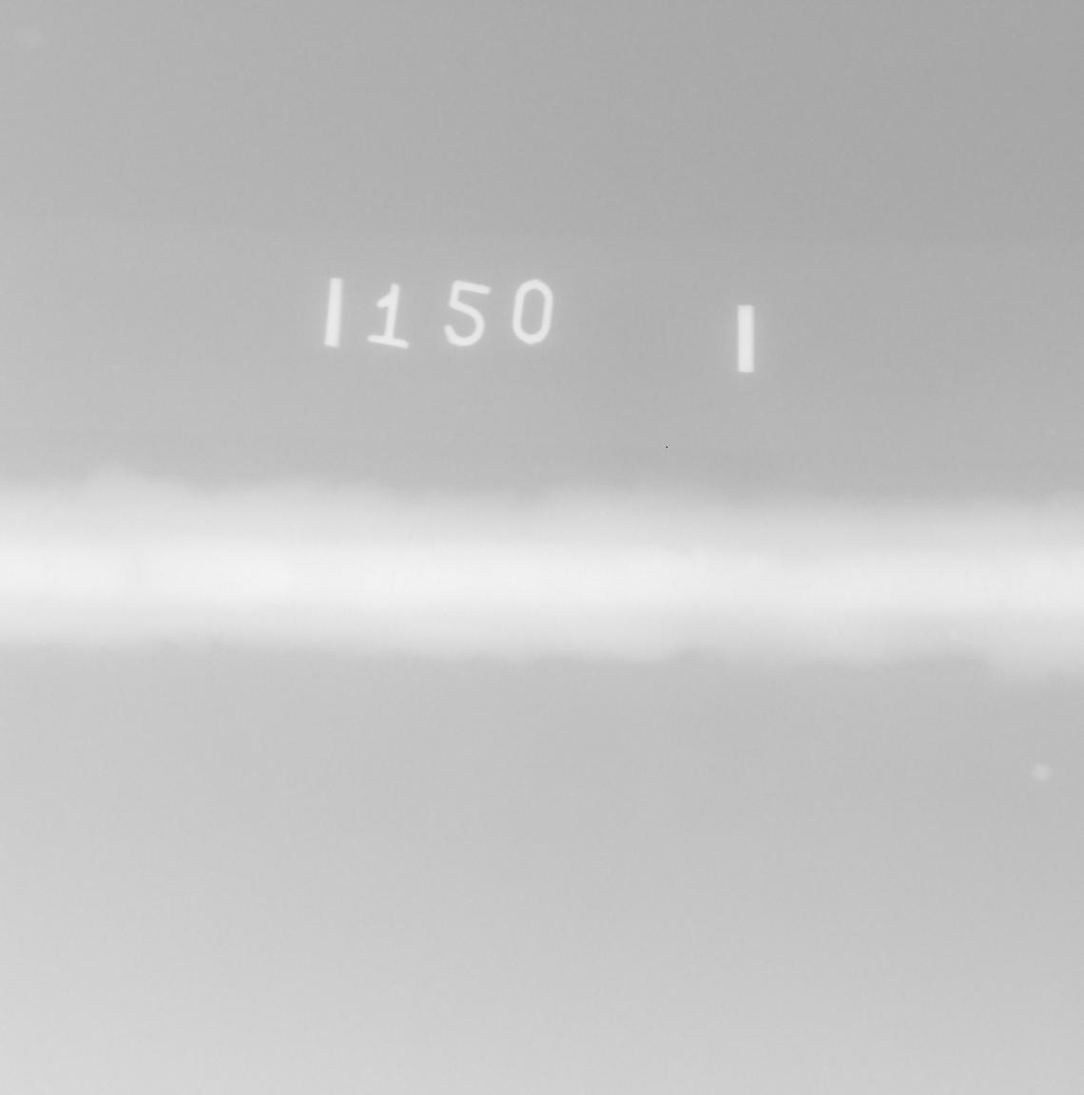Inclusion: (983, 585, 993, 593), (997, 597, 1005, 605), (965, 572, 972, 578)
Pore/Porosity: (672, 581, 680, 588)
